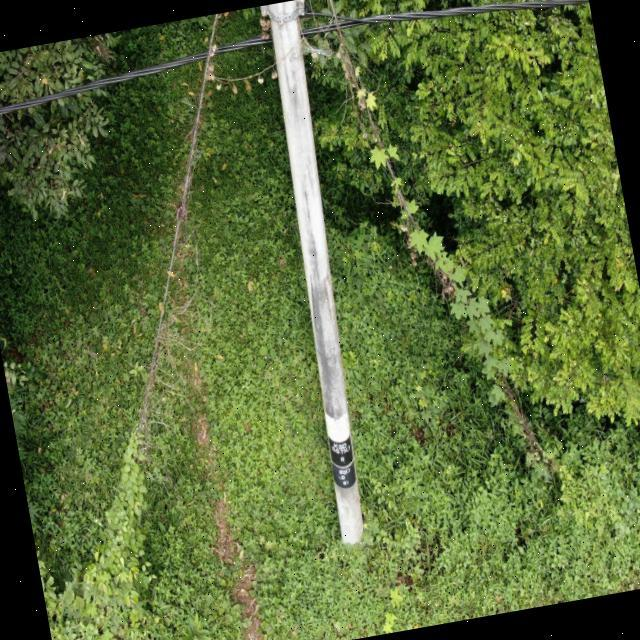critical vegetation: (2, 39, 308, 588), (321, 5, 570, 512)
